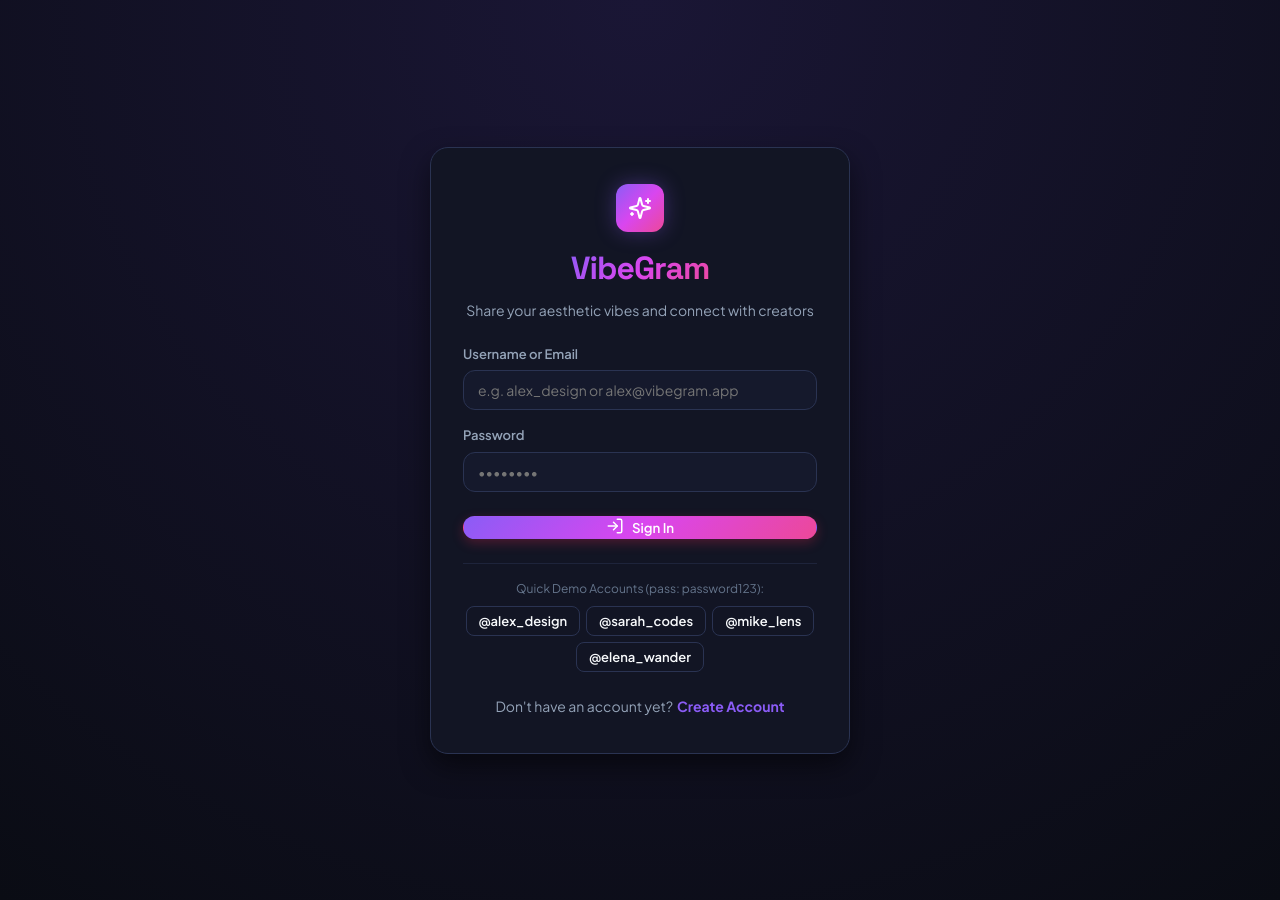
Test: Authentication Pages › clicking demo preset fills username and password on login page
Click the button "@alex_design".
click(523, 620)  # box 466,606 -> 580,636
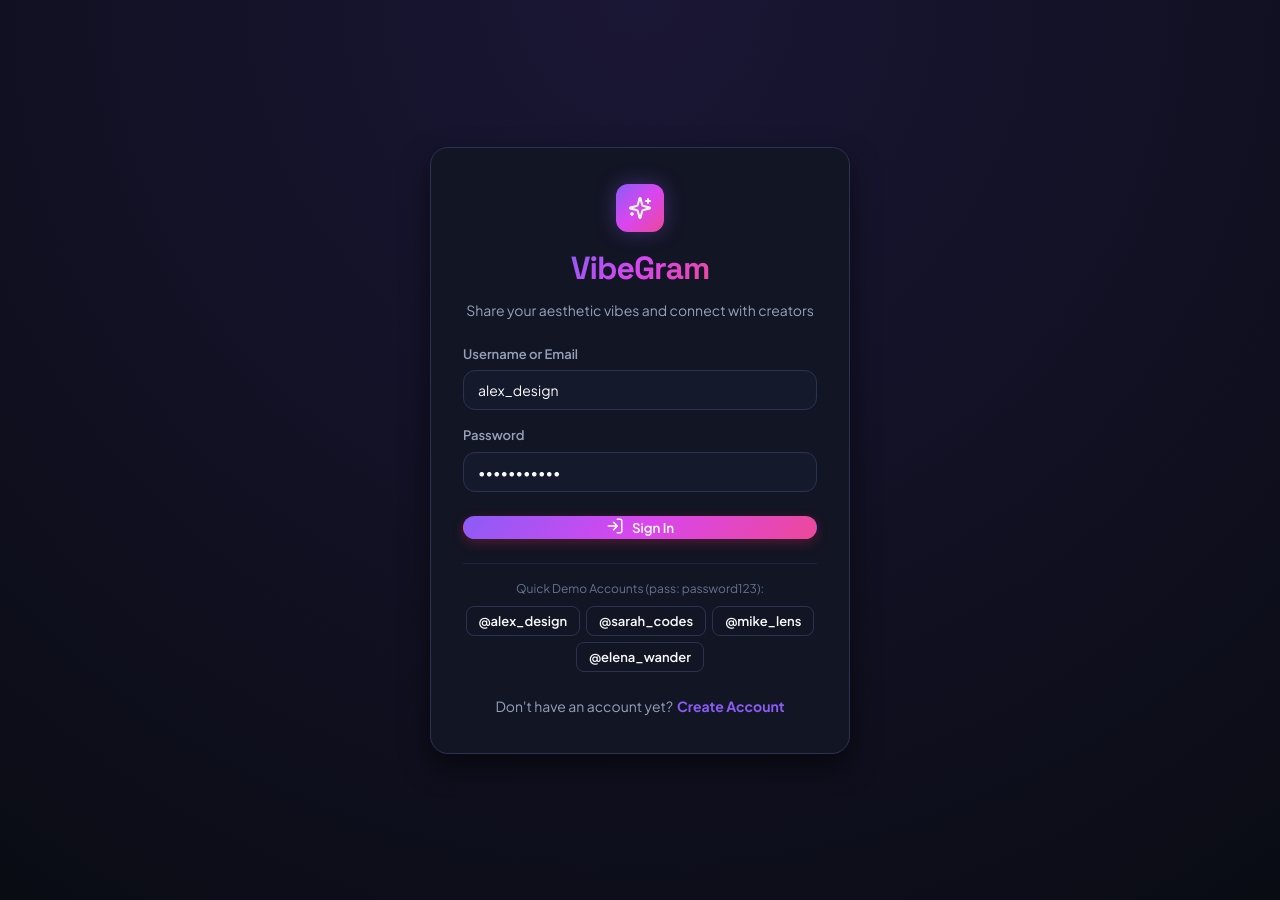
Expected: the field labelled "Username or Email" holds "alex_design", 463,370 -> 817,410
Expected: the password field labelled "Password" holds "password123", 463,452 -> 817,492
